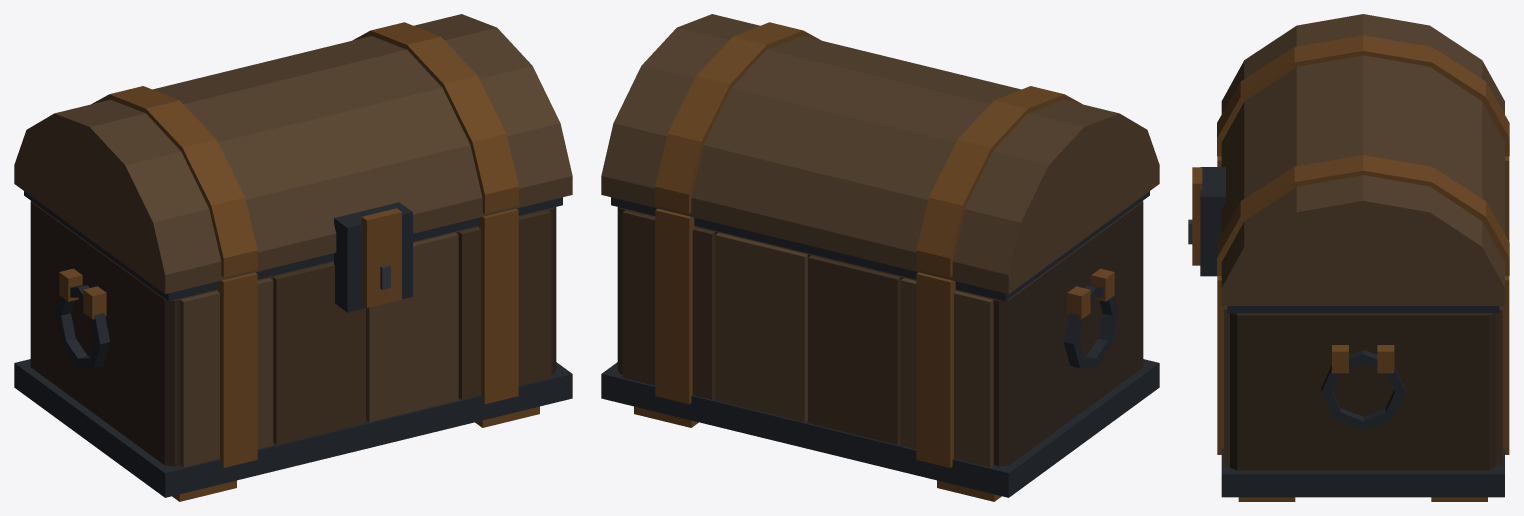
Rendered from Treasure_Chest.glb.
3 renders of one model, left to right at view 1: azimuth 30°, elevation 25°; view 2: azimuth 150°, elevation 25°; view 3: azimuth 270°, elevation 25°, orthographic. The views are drawn at different scales.
Parts seen in each view (by area): view 1: Treasure_Chest; view 2: Treasure_Chest; view 3: Treasure_Chest.
Part boxes in pixels (<box>): Treasure_Chest: <box>14,14,572,501</box>; Treasure_Chest: <box>601,14,1159,501</box>; Treasure_Chest: <box>1188,14,1509,501</box>.
Size of the model in its own units: 1.67 by 1.23 by 1.13.
